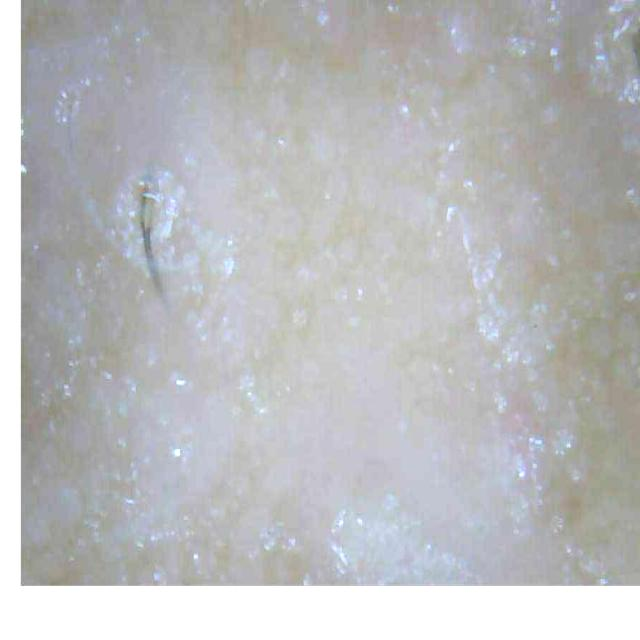o: (478, 303, 605, 539), (328, 492, 475, 585), (111, 166, 185, 302), (567, 1, 640, 105), (440, 178, 502, 292), (416, 3, 492, 79), (54, 78, 91, 125), (162, 434, 195, 474), (396, 99, 414, 123), (315, 0, 330, 28), (441, 137, 461, 156), (170, 370, 191, 388)
